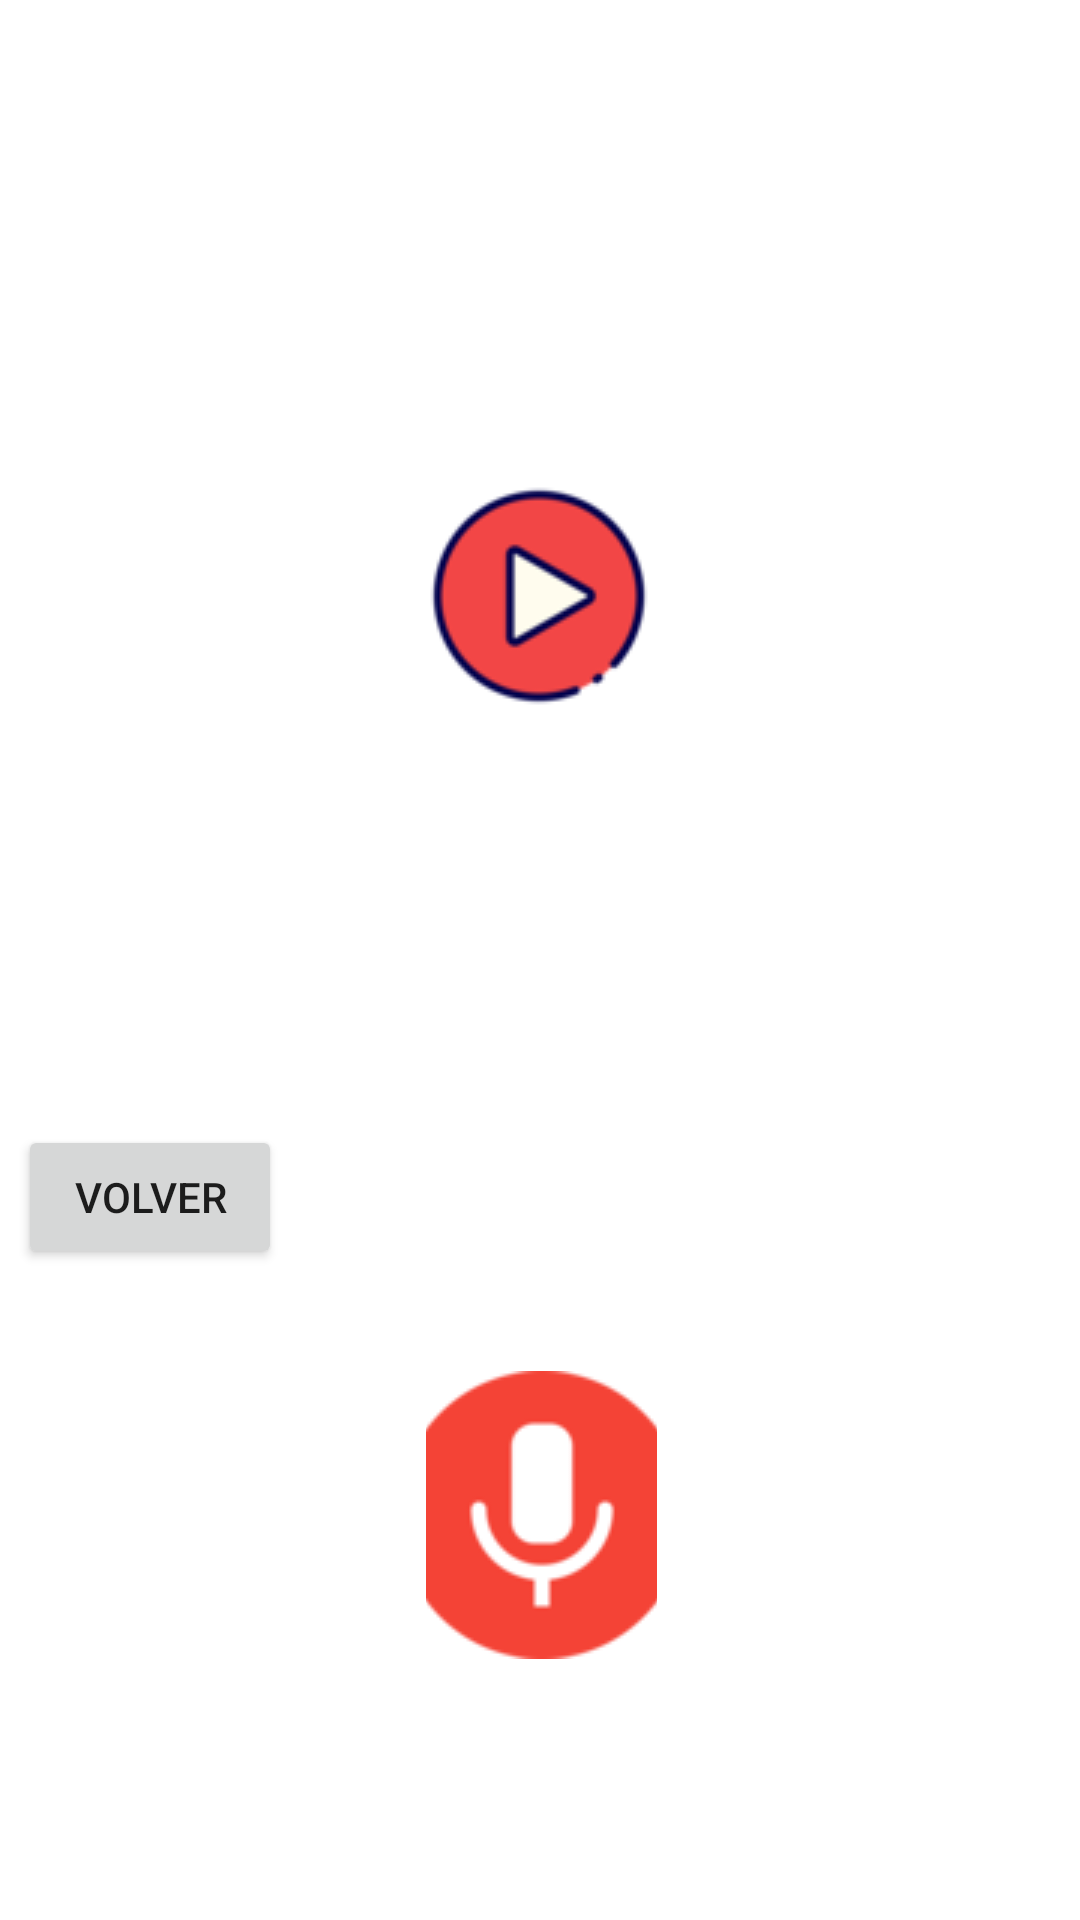

Named icons in this screenshot (1080 × 1920) and their bounding boxes, (x1=x1, y1=y1, x2=x2, y2=y2):
jugar: (x1=432, y1=488, x2=647, y2=704)
vozaudio: (x1=426, y1=1371, x2=657, y2=1659)
